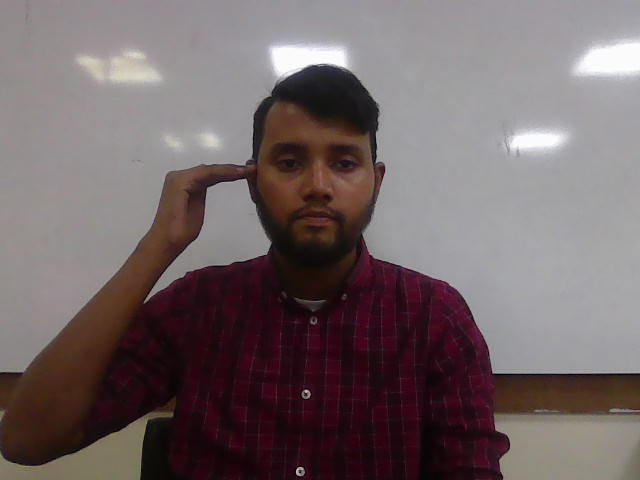Prottibondhi: (155, 162, 259, 247)
